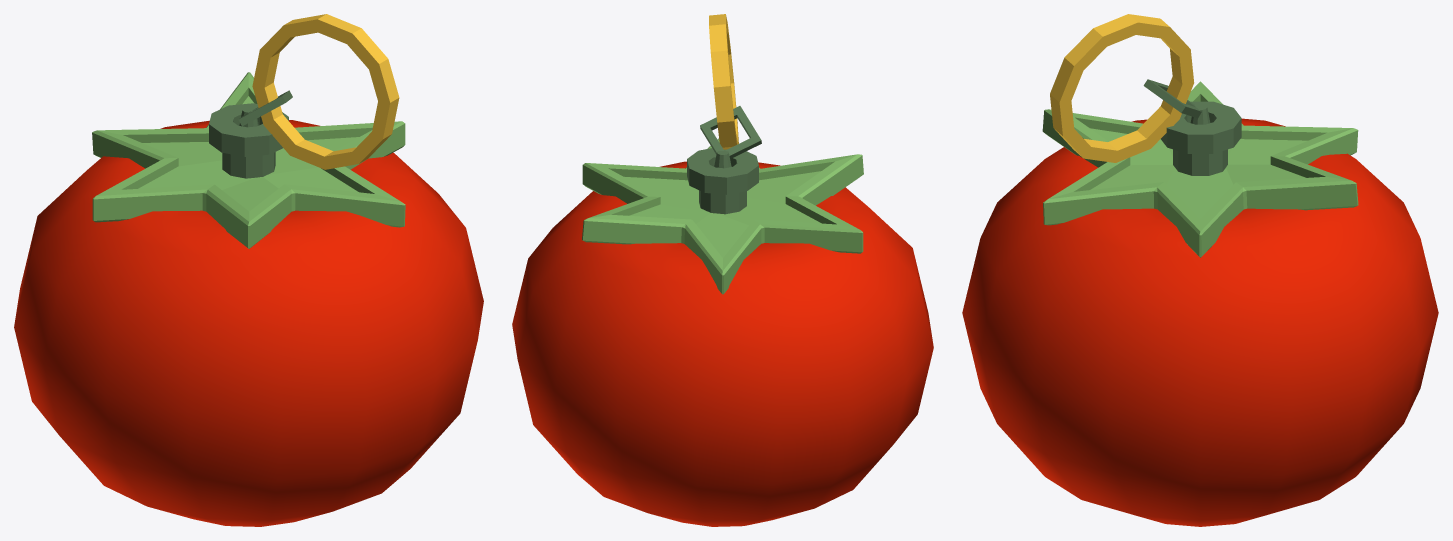
The model's file is tomato.glb.
3 views of the same model, side by side, from view 1: azimuth 30°, elevation 25°; view 2: azimuth 150°, elevation 25°; view 3: azimuth 270°, elevation 25° (orthographic). The views are drawn at different scales.
Visible parts, largest first — view 1: corpo; view 2: corpo; view 3: corpo.
Boxes of the visible parts, <box> form: corpo: <box>14,14,483,526</box>; corpo: <box>512,14,933,526</box>; corpo: <box>962,14,1438,526</box>.
Bounding box in the file's own units: 2 × 2.33 × 2.
